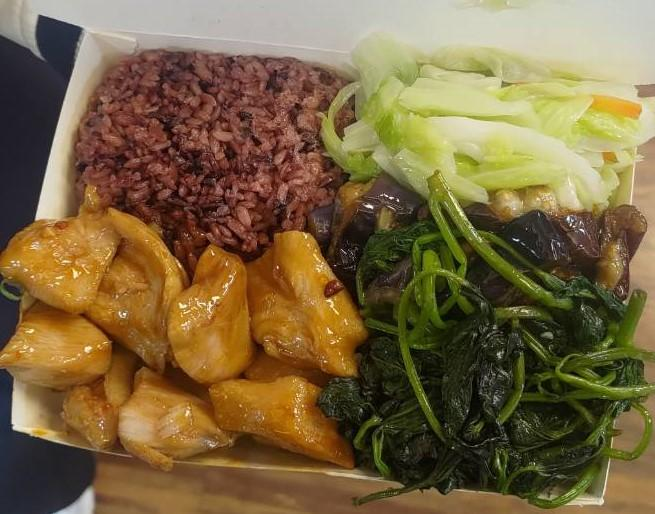big grilled chicken leg: (1, 22, 648, 512)
braised fish: (80, 44, 352, 243)
braised fish fillet: (359, 249, 641, 506), (344, 40, 640, 212), (352, 177, 637, 309)
braised pork: (6, 214, 356, 472)
